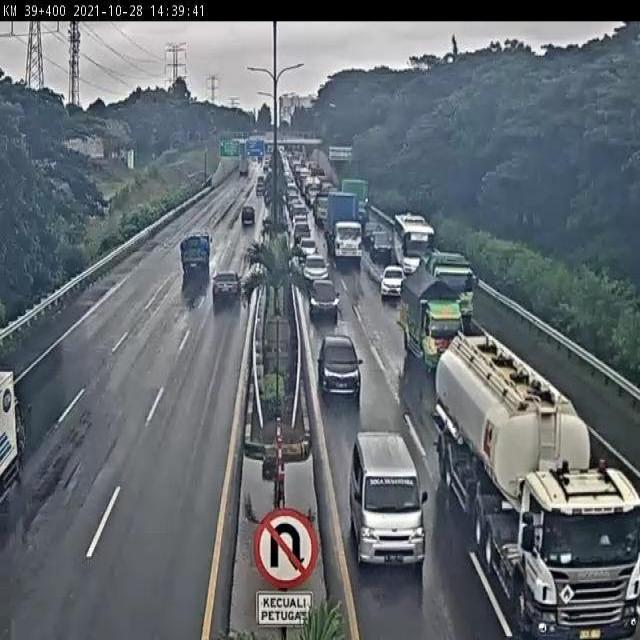big bus: (395, 212, 435, 277)
big truck: (435, 336, 640, 640), (325, 186, 361, 258)
car: (351, 431, 428, 568), (318, 336, 363, 392), (211, 268, 244, 301), (308, 279, 339, 313), (380, 261, 407, 296), (302, 252, 327, 281), (367, 228, 390, 257), (240, 205, 257, 227)
mid truck: (422, 251, 476, 325)
small truck: (178, 231, 211, 272)
truck-m-: (399, 267, 463, 368)
